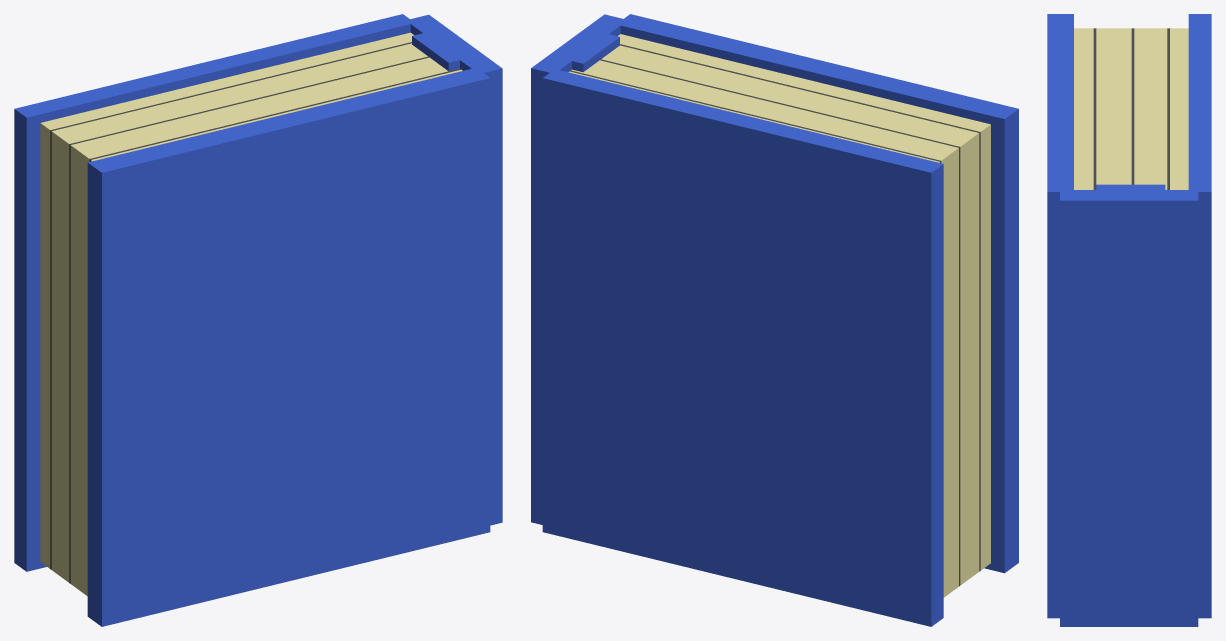
File: BlueBook.dae
3 views of the same model, side by side, from view 1: azimuth 30°, elevation 25°; view 2: azimuth 150°, elevation 25°; view 3: azimuth 270°, elevation 25° (orthographic). The views are drawn at different scales.
Visible parts, largest first — view 1: Book (×8); view 2: Book (×8); view 3: Book (×8).
Boxes of the visible parts, box(x1,y1,x2,y2) form: Book (×8): box(14, 14, 502, 626); Book (×8): box(531, 14, 1018, 626); Book (×8): box(1047, 14, 1211, 626).
Bounding box in the file's own units: 9.66 × 3.6 × 10.29.
